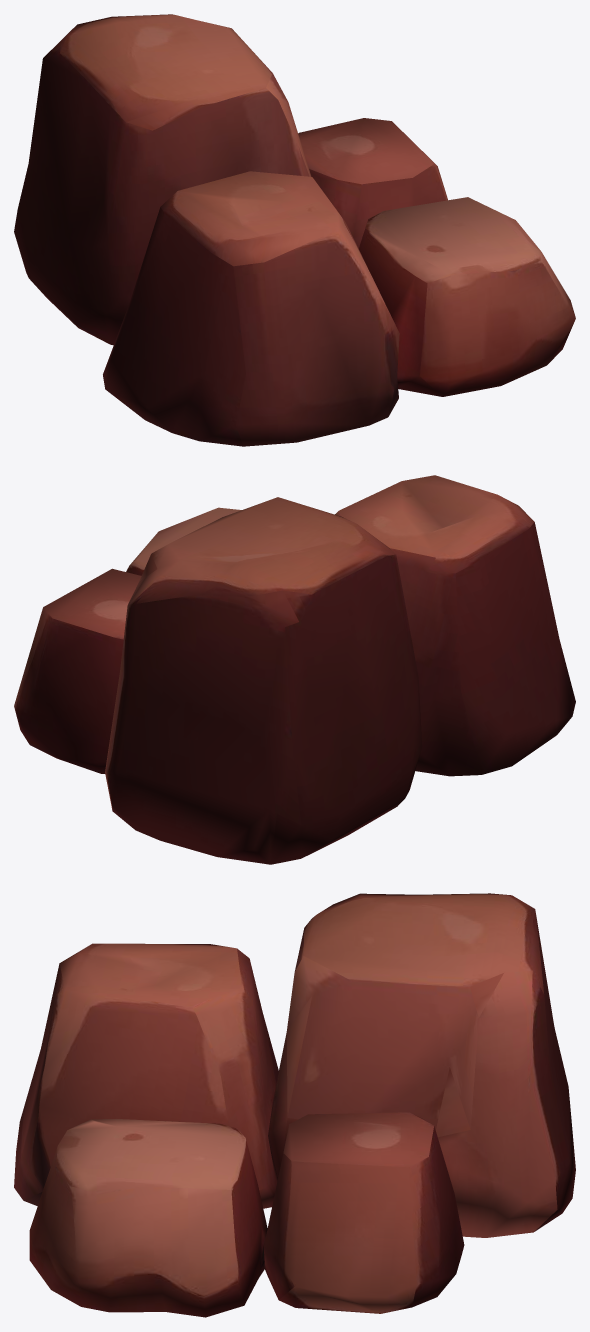
Rendered from rock_b.glb.
3 renders of one model, top to bottom at view 1: azimuth 30°, elevation 25°; view 2: azimuth 150°, elevation 25°; view 3: azimuth 270°, elevation 25°, orthographic. The views are drawn at different scales.
Parts seen in each view (by area): view 1: geometry_0; view 2: geometry_0; view 3: geometry_0.
Boxes of the visible parts, box(x1,y1,x2,y2) form: geometry_0: box(14, 14, 575, 446); geometry_0: box(14, 475, 575, 864); geometry_0: box(14, 893, 575, 1317).
Bounding box in the file's own units: 0.9085 × 0.5302 × 1.
Materials: 1 (1 with a texture image).
